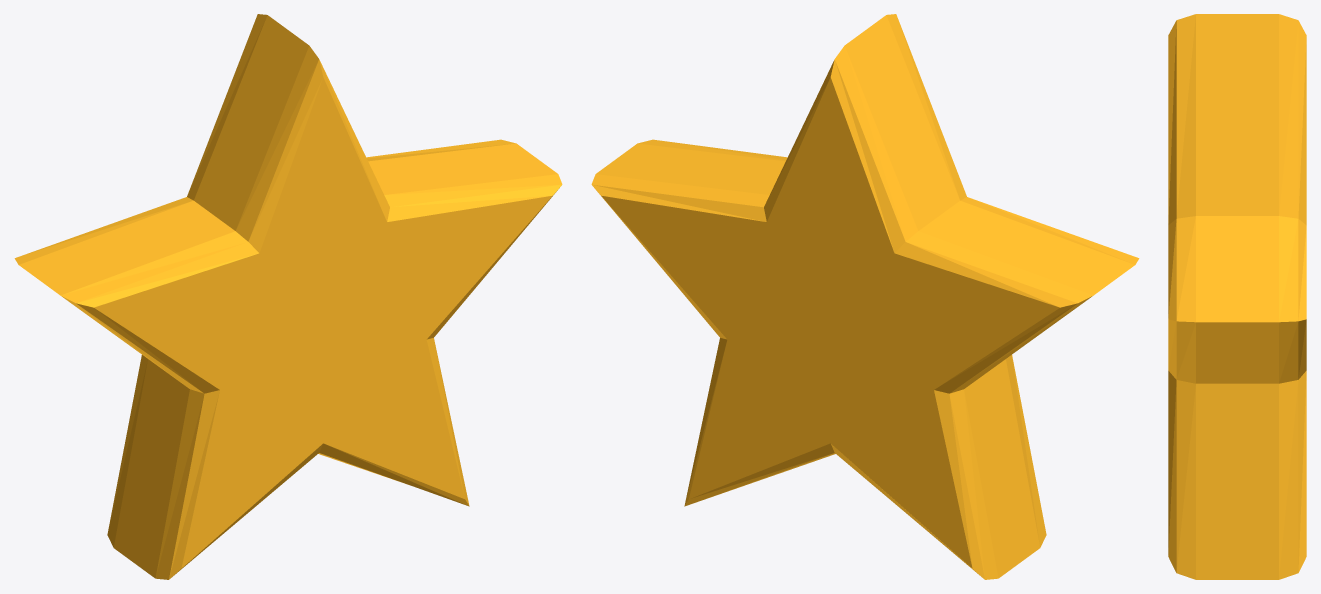
File: star.glb
3 views of the same model, side by side, from view 1: azimuth 30°, elevation 25°; view 2: azimuth 150°, elevation 25°; view 3: azimuth 270°, elevation 25° (orthographic).
Bounding box in the file's own units: 2.06 × 1.96 × 0.5.
